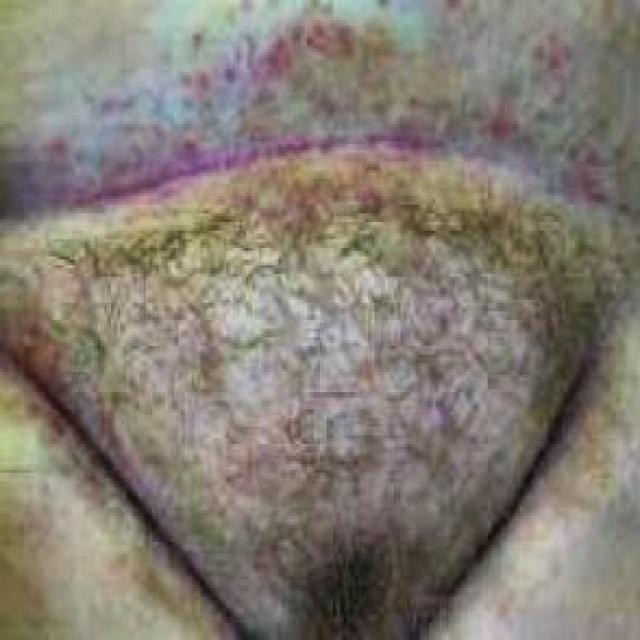Tinea Ringworm Candidiasis and other Fungal Infections: (10, 22, 631, 213)
